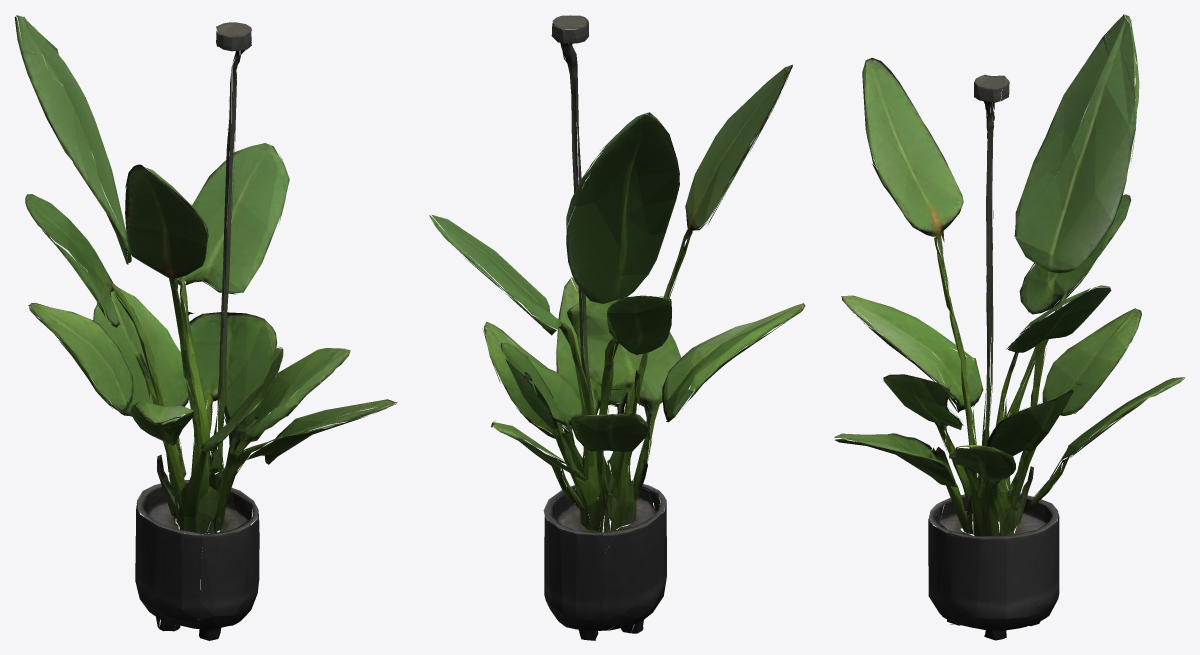
Rendered from s-plante.glb.
3 renders of one model, left to right at view 1: azimuth 30°, elevation 25°; view 2: azimuth 150°, elevation 25°; view 3: azimuth 270°, elevation 25°, orthographic. The views are drawn at different scales.
Visible parts, largest first — view 1: geometry_0; view 2: geometry_0; view 3: geometry_0.
Boxes of the visible parts, x1,y1,x2,y2 form: geometry_0: (14,15,397,640); geometry_0: (429,15,805,640); geometry_0: (834,14,1185,640).
Bounding box in the file's own units: 0.4622 × 1 × 0.5701.
Materials: 1 (1 with a texture image).
